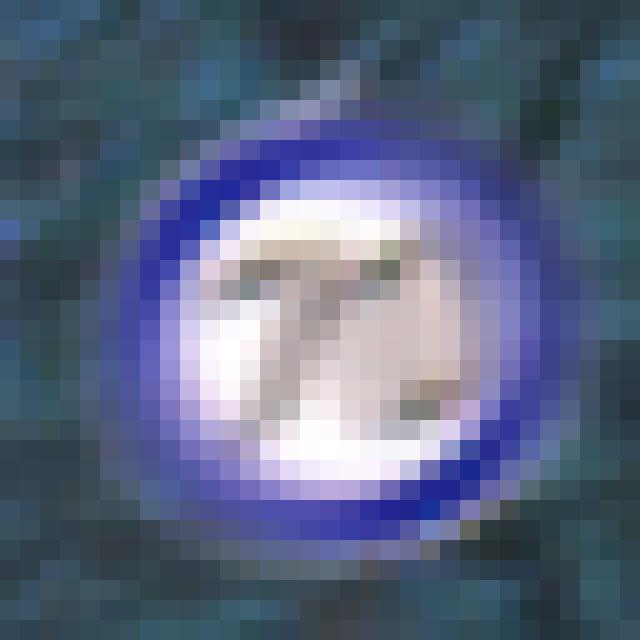SPEED LIMIT 70: (111, 141, 584, 548)
